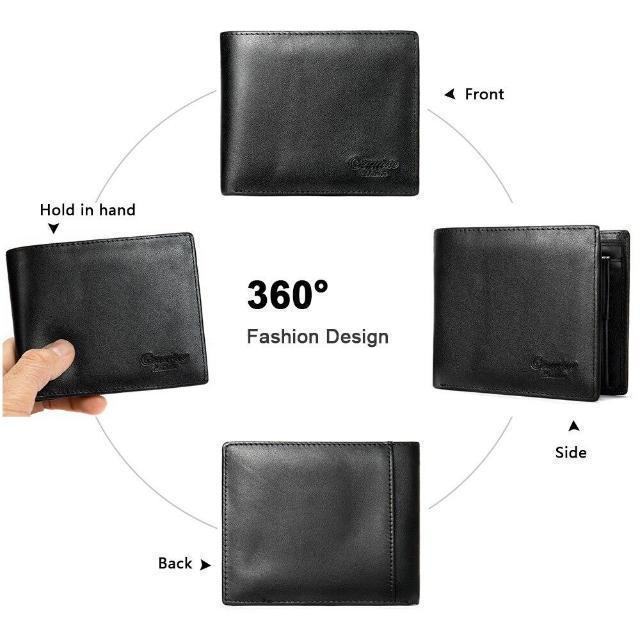wallet: (428, 221, 632, 405), (3, 229, 211, 405), (220, 434, 422, 614), (215, 25, 422, 197)
